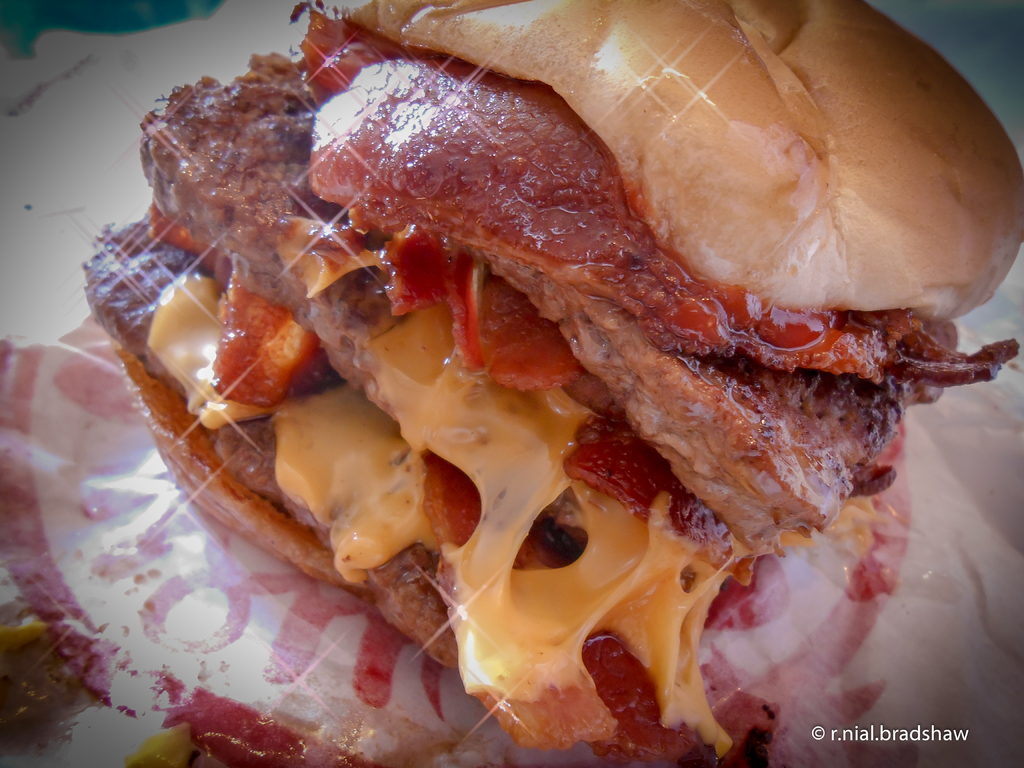Hamburger: (80, 0, 1023, 765)
